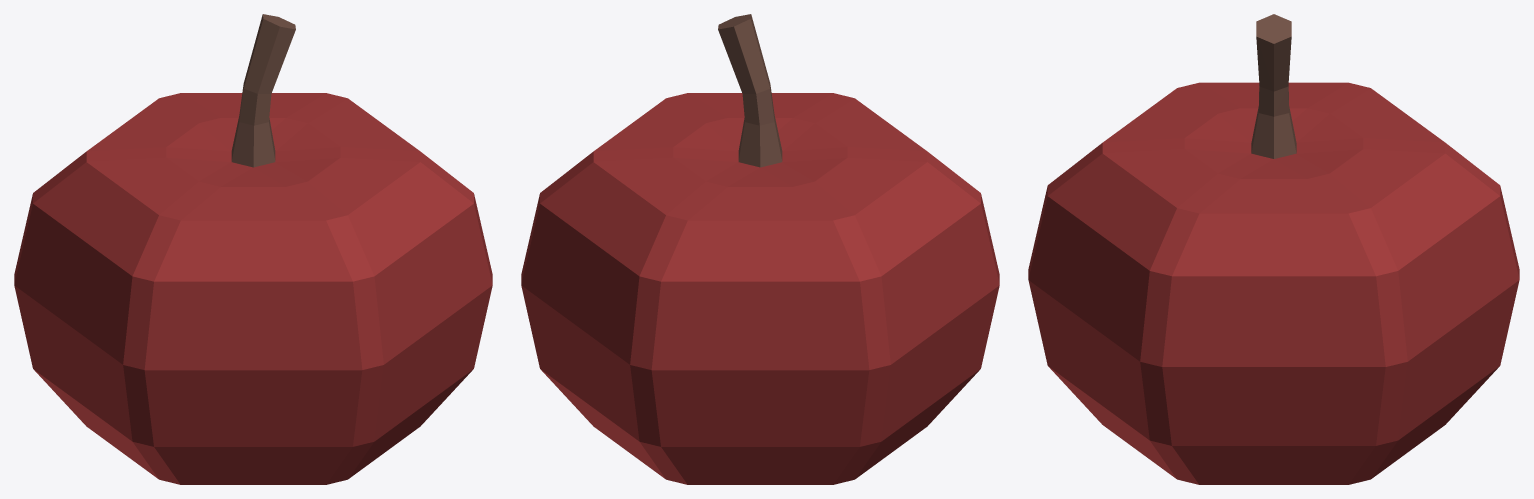
The model's file is Apfel.fbx.
3 views of the same model, side by side, from view 1: azimuth 30°, elevation 25°; view 2: azimuth 150°, elevation 25°; view 3: azimuth 270°, elevation 25° (orthographic). The views are drawn at different scales.
Visible parts, largest first — view 1: Apfel; view 2: Apfel; view 3: Apfel.
Boxes of the visible parts, x1,y1,x2,y2 form: Apfel: [14, 14, 492, 484]; Apfel: [521, 14, 999, 484]; Apfel: [1028, 14, 1519, 484].
Bounding box in the file's own units: 14.26 × 15.9 × 15.99.
